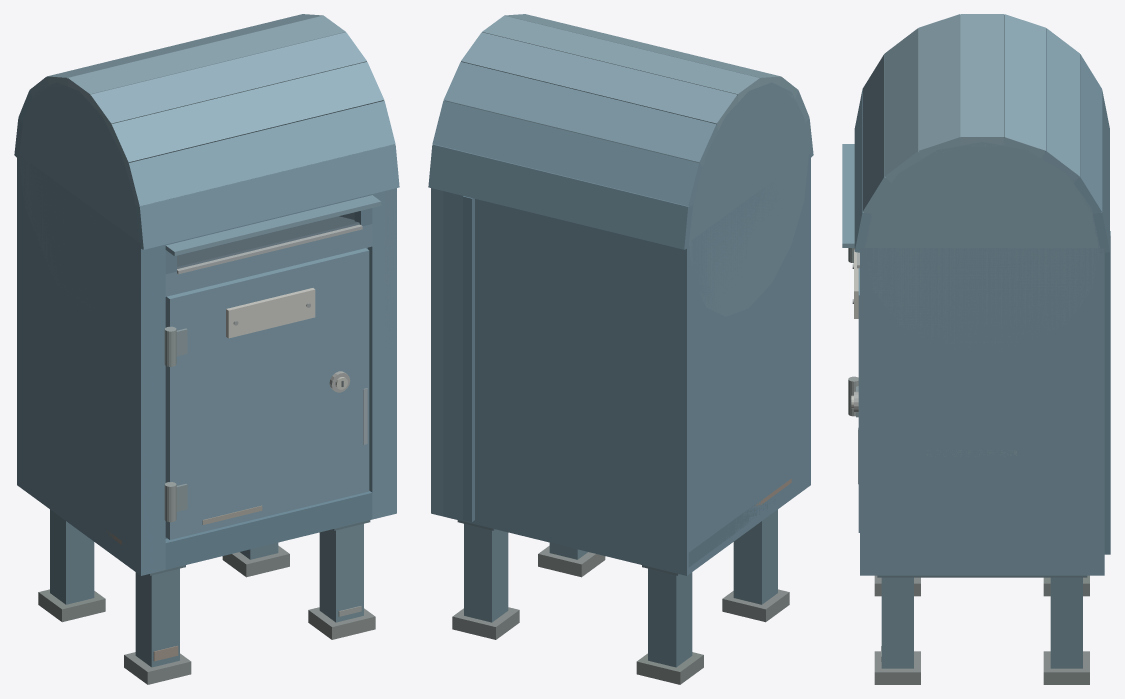
3 renders of one model, left to right at view 1: azimuth 30°, elevation 25°; view 2: azimuth 150°, elevation 25°; view 3: azimuth 270°, elevation 25°, orthographic.
Visible parts, largest first — view 1: access_door, body_left_wall, left_curved_end_panel, roof_segment_front_upper, roof_segment_front_steep, roof_segment_front_shoulder, roof_segment_front_crown, front_left_frame_stile, front_right_frame_stile, front_lower_sill, roof_segment_crown, door_header_and_slot_sill (+13 smaller); view 2: rear_wall, body_left_wall, left_curved_end_panel, roof_segment_rear_upper, roof_segment_rear_steep, roof_segment_rear_shoulder, roof_segment_rear_crown, roof_segment_crown, body_right_wall, leg_rear_left, leg_rear_right, rear_folded_vertical_seam (+8 smaller); view 3: body_right_wall, right_curved_end_panel, roof_segment_crown, roof_segment_front_crown, roof_segment_rear_crown, roof_segment_front_shoulder, roof_segment_rear_shoulder, roof_segment_front_upper, roof_segment_rear_upper, leg_front_right, leg_rear_right, rear_folded_vertical_seam (+8 smaller).
Boxes of the visible parts, x1,y1,x2,y2 form: access_door: (165,248,369,539); body_left_wall: (17,153,153,575); left_curved_end_panel: (19,82,138,314); roof_segment_front_upper: (125,100,395,206); roof_segment_front_steep: (135,144,399,249); roof_segment_front_shoulder: (108,62,384,166); roof_segment_front_crown: (90,32,366,129); front_left_frame_stile: (141,244,165,575); front_right_frame_stile: (368,188,396,519); front_lower_sill: (165,491,372,569); roof_segment_crown: (68,15,345,102); door_header_and_slot_sill: (165,224,372,296); rear_wall: (443,191,674,572); body_left_wall: (674,153,810,575); left_curved_end_panel: (689,82,808,316); roof_segment_rear_upper: (432,100,702,206); roof_segment_rear_steep: (428,144,693,249); roof_segment_rear_shoulder: (443,62,718,166); roof_segment_rear_crown: (461,32,738,130); roof_segment_crown: (482,15,759,101); body_right_wall: (431,188,443,516); leg_rear_left: (648,568,692,667); leg_rear_right: (464,523,508,622); rear_folded_vertical_seam: (463,196,474,521); body_right_wall: (860,248,1104,575); right_curved_end_panel: (864,142,1099,354); roof_segment_crown: (960,14,1004,146); roof_segment_front_crown: (918,14,962,158); roof_segment_rear_crown: (1002,14,1045,158); roof_segment_front_shoulder: (884,28,924,182); roof_segment_rear_shoulder: (1041,28,1079,183); roof_segment_front_upper: (862,54,891,215); roof_segment_rear_upper: (1073,54,1101,215); leg_front_right: (881,577,913,668); leg_rear_right: (1050,577,1082,668); rear_folded_vertical_seam: (1104,231,1110,554).
Size of the model in its own units: 0.5 by 1.05 by 0.46.
